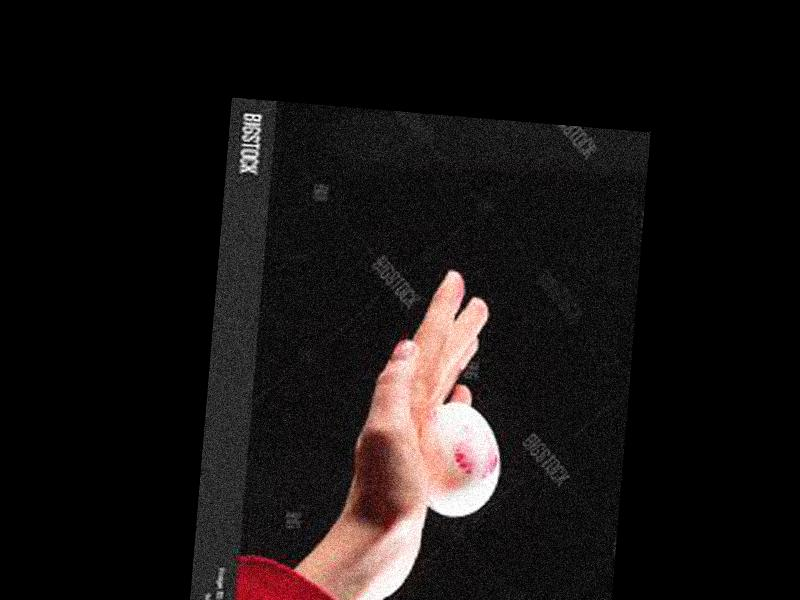Eggs: (420, 403, 505, 521)
